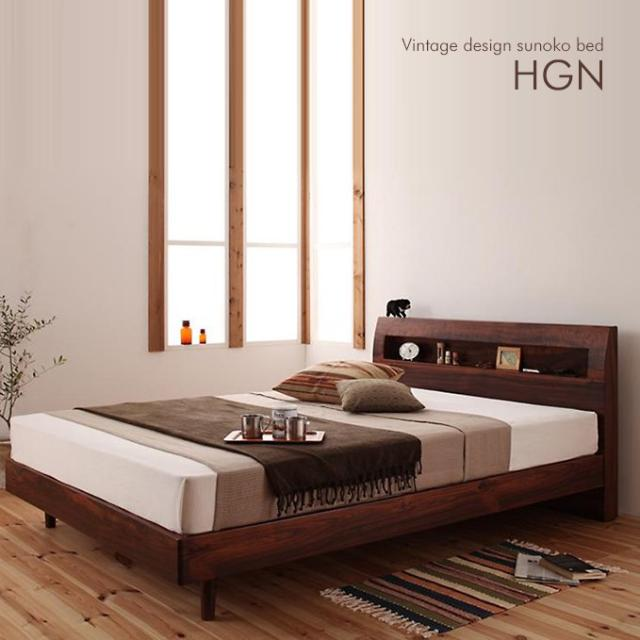bed vintage: (4, 314, 627, 624)
